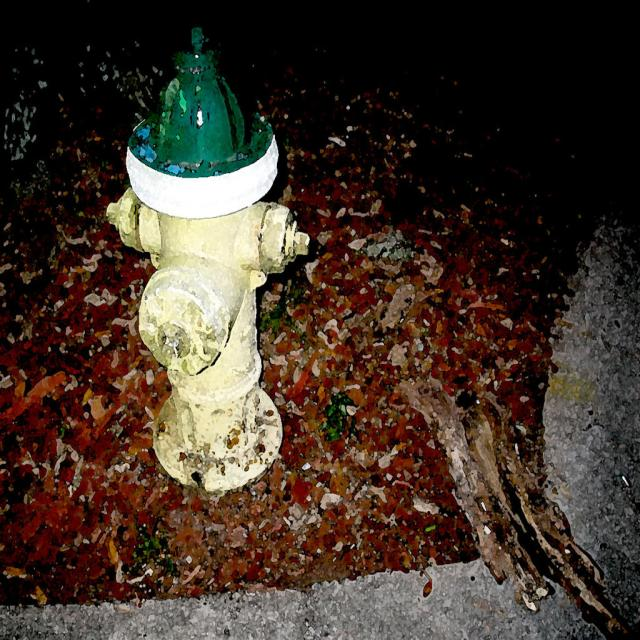fire_hydrant: (109, 27, 307, 491)
